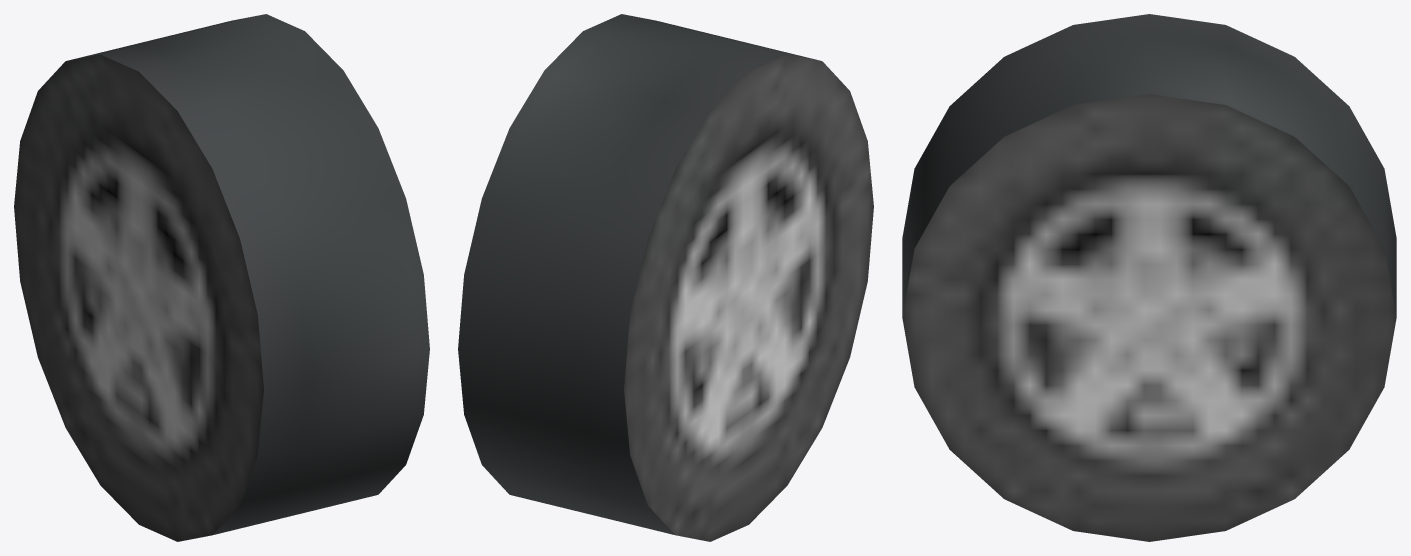
File: JoacosJeepIzqLlantaDelante.fbx
3 renders of one model, left to right at view 1: azimuth 30°, elevation 25°; view 2: azimuth 150°, elevation 25°; view 3: azimuth 270°, elevation 25°, orthographic.
Parts seen in each view (by area): view 1: JoacosJeepIzqLlantaDelante; view 2: JoacosJeepIzqLlantaDelante; view 3: JoacosJeepIzqLlantaDelante.
Part boxes in pixels (bbox=[...]): JoacosJeepIzqLlantaDelante: bbox=[14, 14, 429, 541]; JoacosJeepIzqLlantaDelante: bbox=[458, 14, 873, 541]; JoacosJeepIzqLlantaDelante: bbox=[902, 14, 1396, 541].
Size of the model in its own units: 2.2 by 5.73 by 5.73.
1 material, 1 textured.
